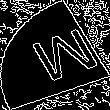M_SE: (14, 23, 96, 87)
